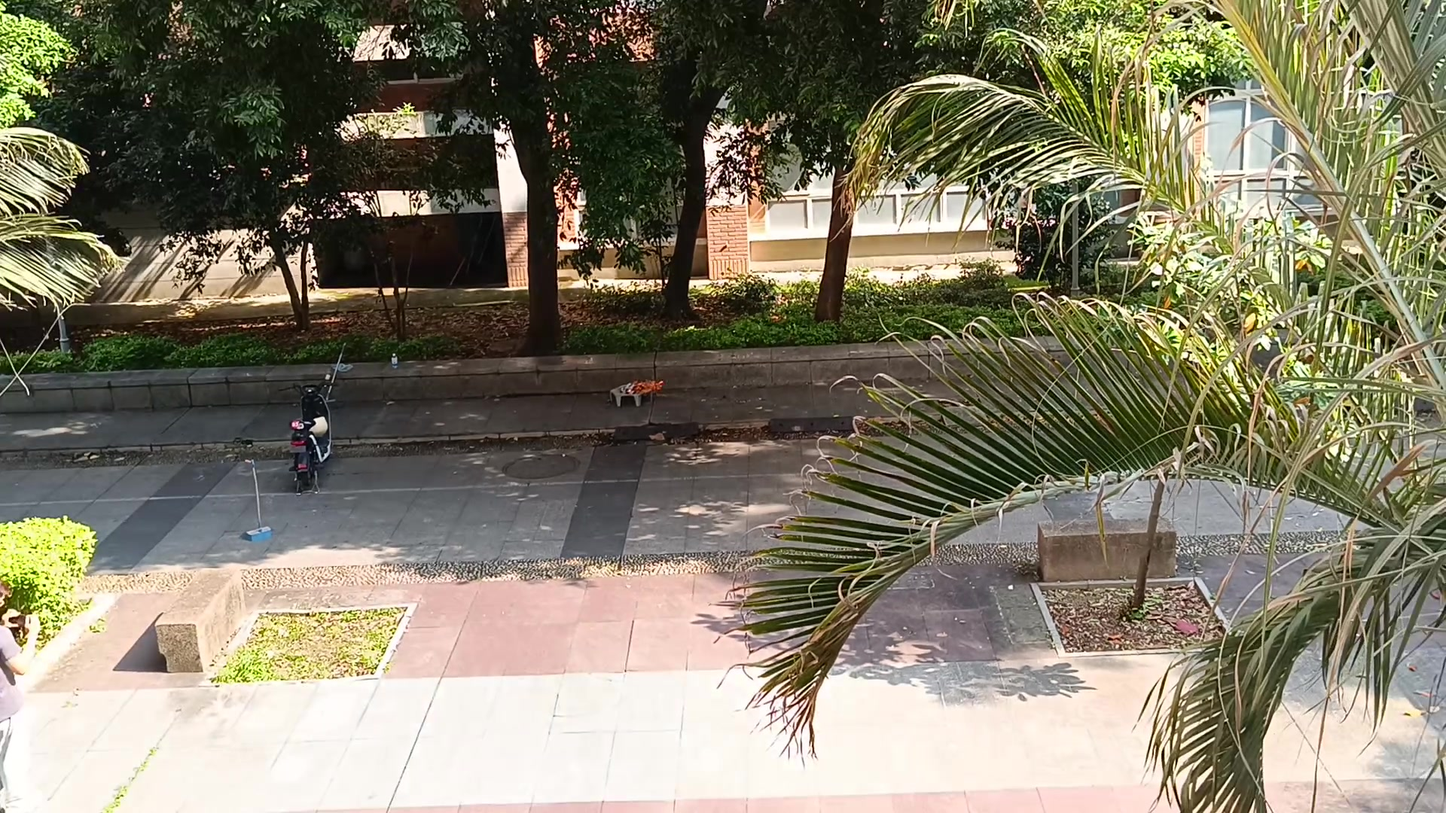fire: (627, 379, 665, 392)
